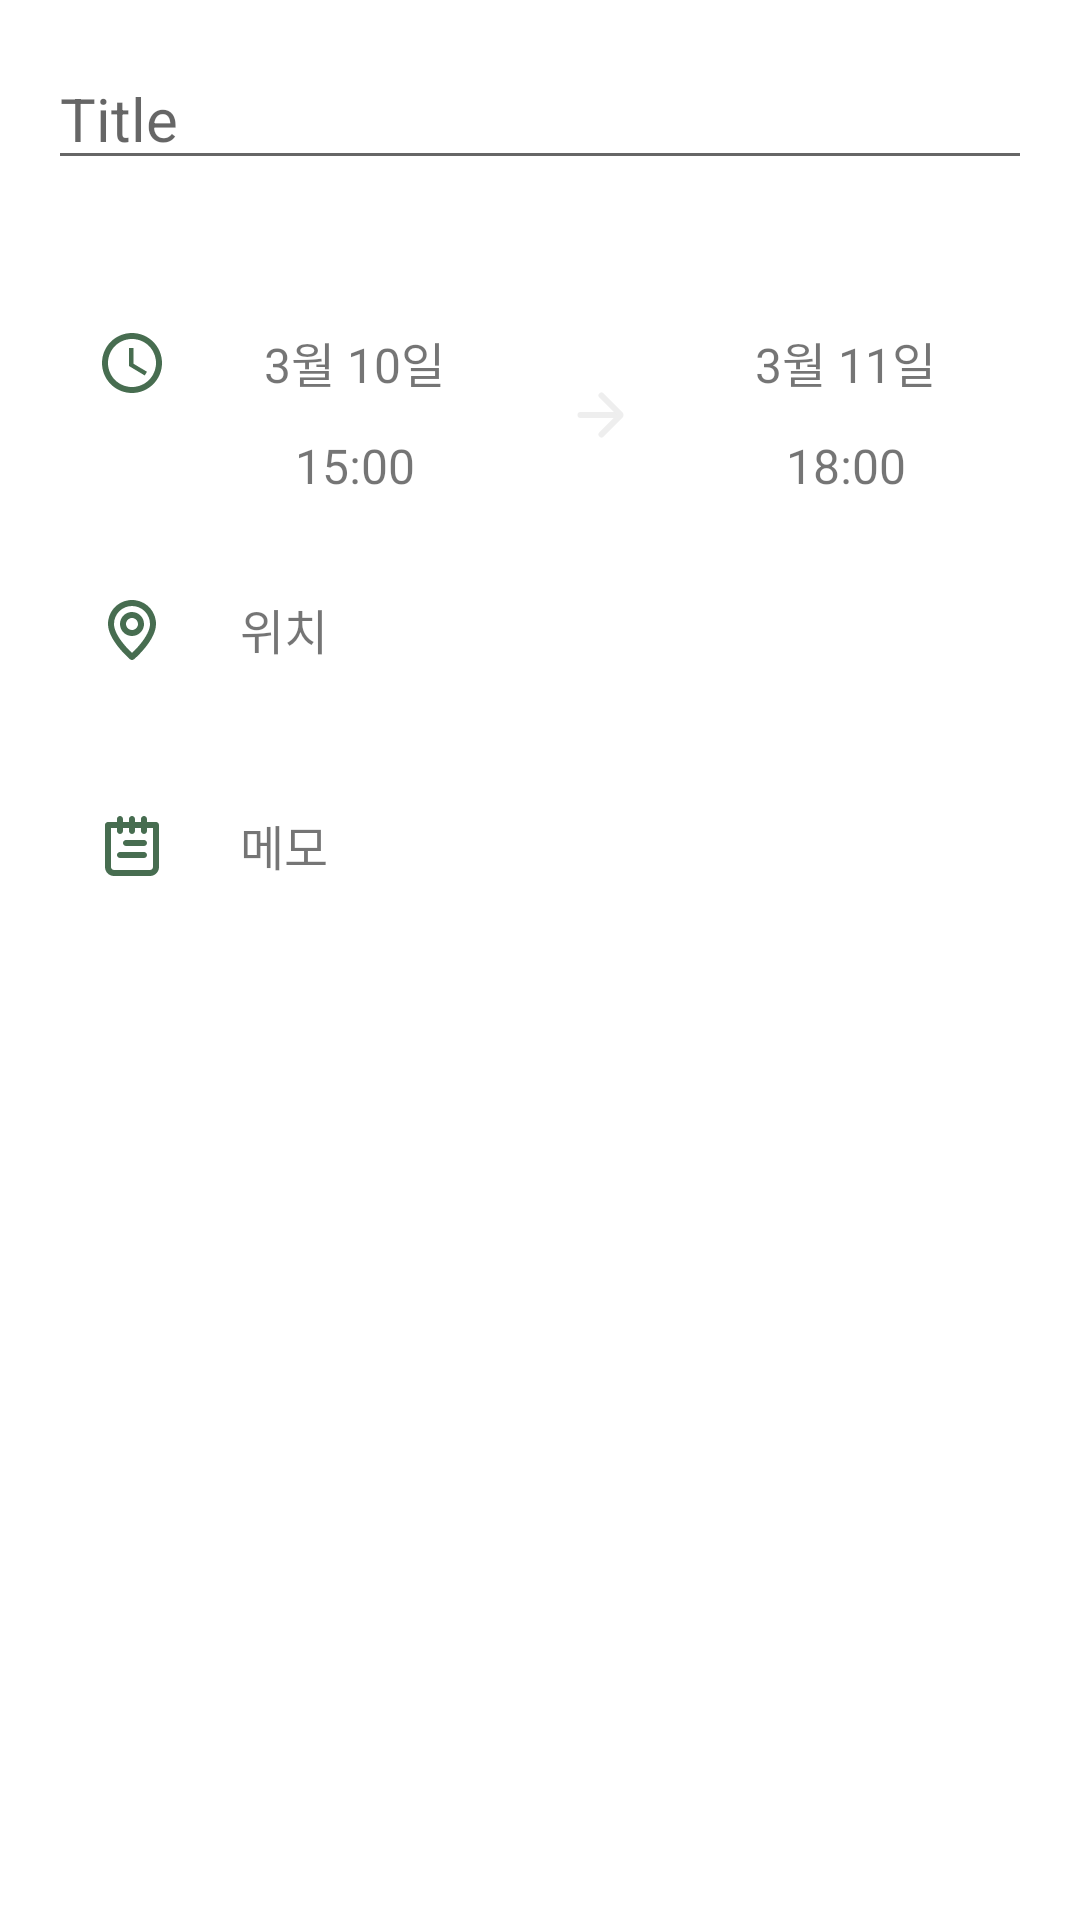

Icon click points for this 1080 x 1920 phone screenshot, format point (x, y):
location: point (132, 630)
memo: point (132, 846)
time: point (132, 363)
